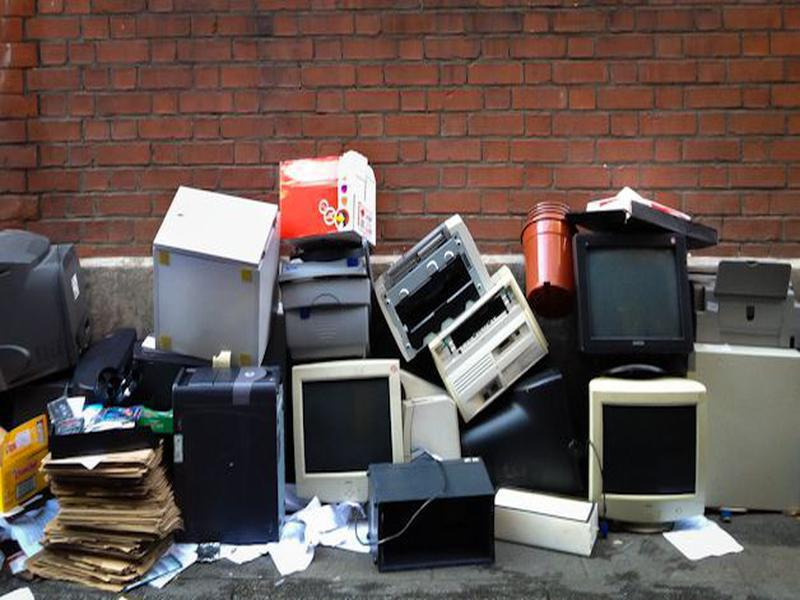cardboard: (26, 446, 183, 593)
printer: (421, 266, 553, 427), (375, 203, 494, 364)
tv_pc: (580, 371, 718, 539), (564, 227, 705, 377), (450, 361, 588, 501), (286, 354, 407, 504)
